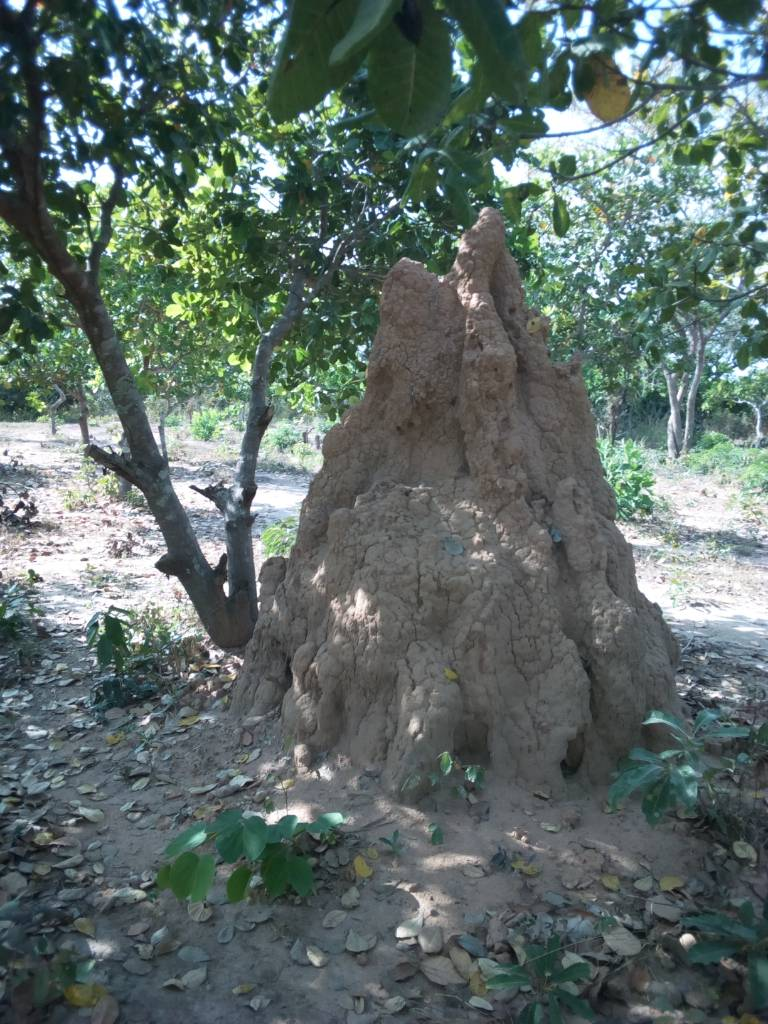Virose: (215, 197, 759, 831)
